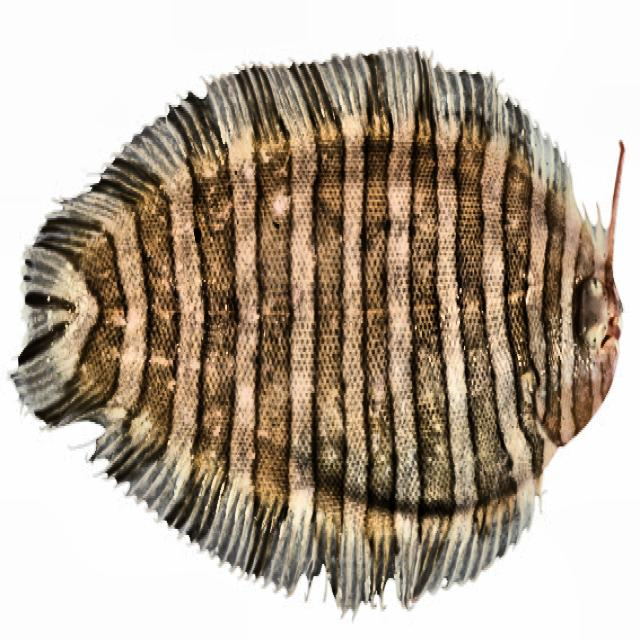fish: (8, 44, 626, 624)
